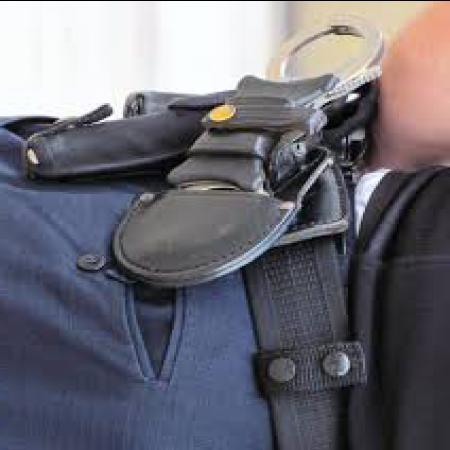Pistol: (9, 83, 370, 255)
